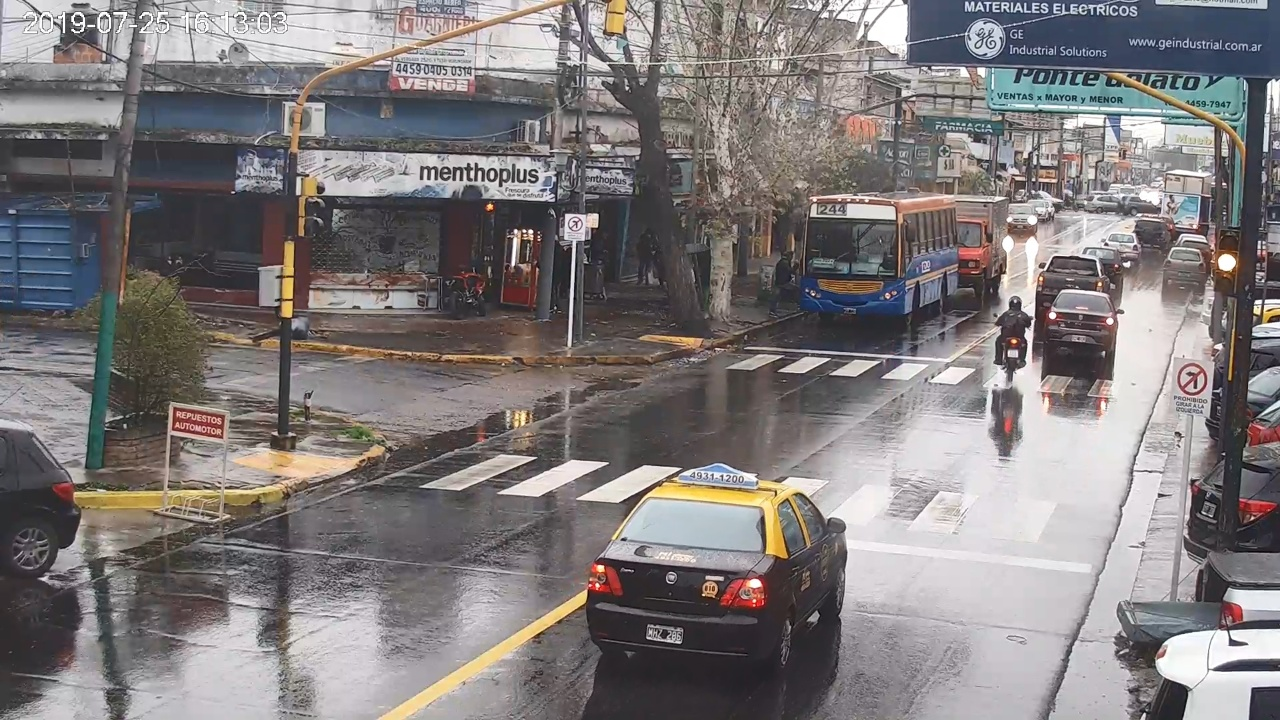car: (587, 464, 848, 668), (1043, 289, 1125, 359)
front bus: (801, 195, 959, 325)
motorcycle: (993, 313, 1034, 383)
traffic light: (1215, 228, 1237, 293)
